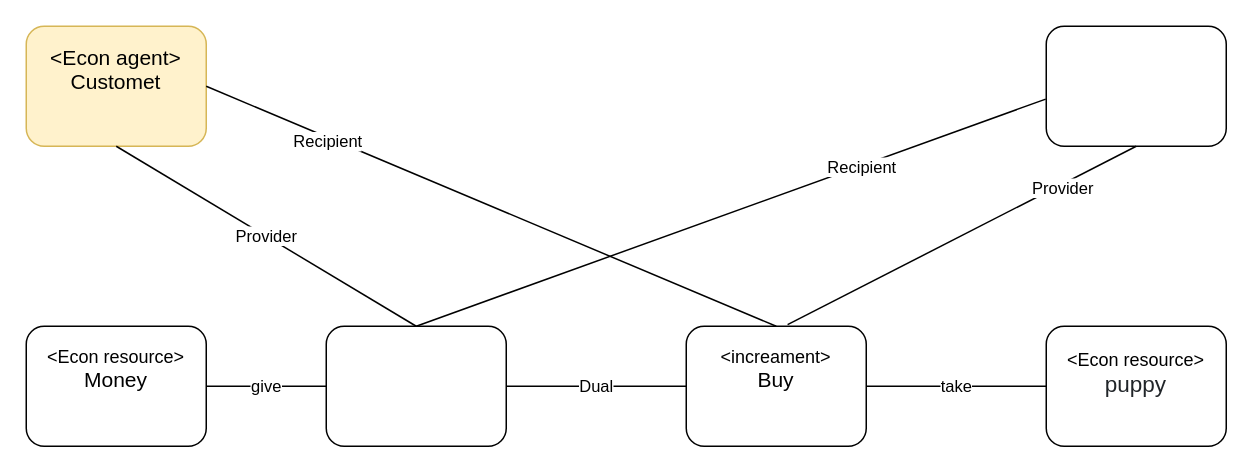
The diagram is 1253 pixels wide and 473 high, and some of its shapes have lost their labels. The centre of each missing label's shape, as x and y in pixels:
"< decrement> Pay" goes at point (415, 385).
"<Econ agent> Store" goes at point (1135, 85).
